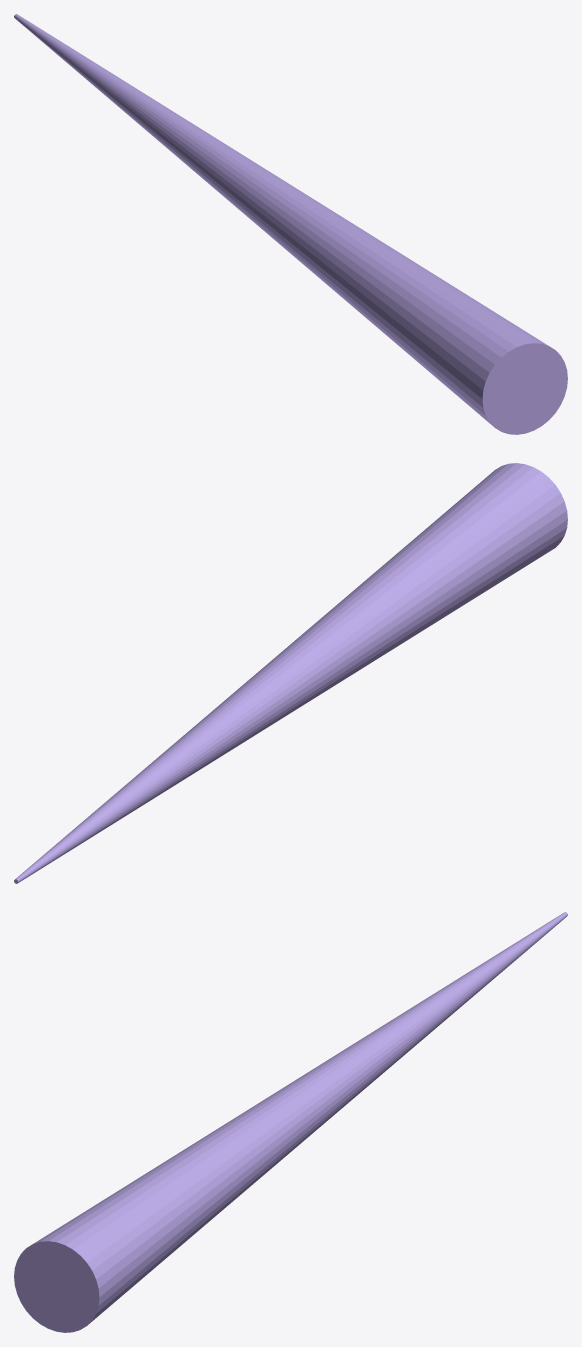
Rendered from laser.glb.
3 views of the same model, one above another, from view 1: azimuth 30°, elevation 25°; view 2: azimuth 150°, elevation 25°; view 3: azimuth 330°, elevation 25° (orthographic).
Visible parts, largest first — view 1: Cylinder; view 2: Cylinder; view 3: Cylinder.
Boxes of the visible parts, left/top/right/bottom form: Cylinder: left=14, top=14, right=567, bottom=434; Cylinder: left=14, top=463, right=567, bottom=883; Cylinder: left=14, top=912, right=567, bottom=1332.
Bounding box in the file's own units: 0.2485 × 0.2485 × 2.56.
